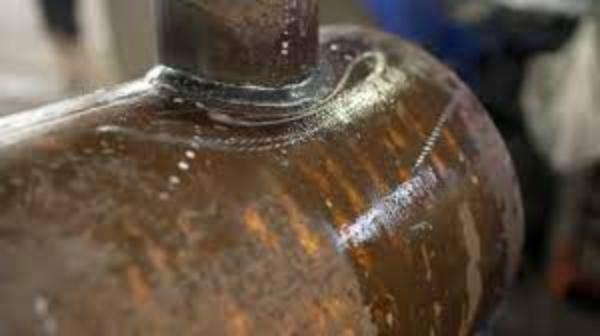water: (123, 26, 349, 222)
